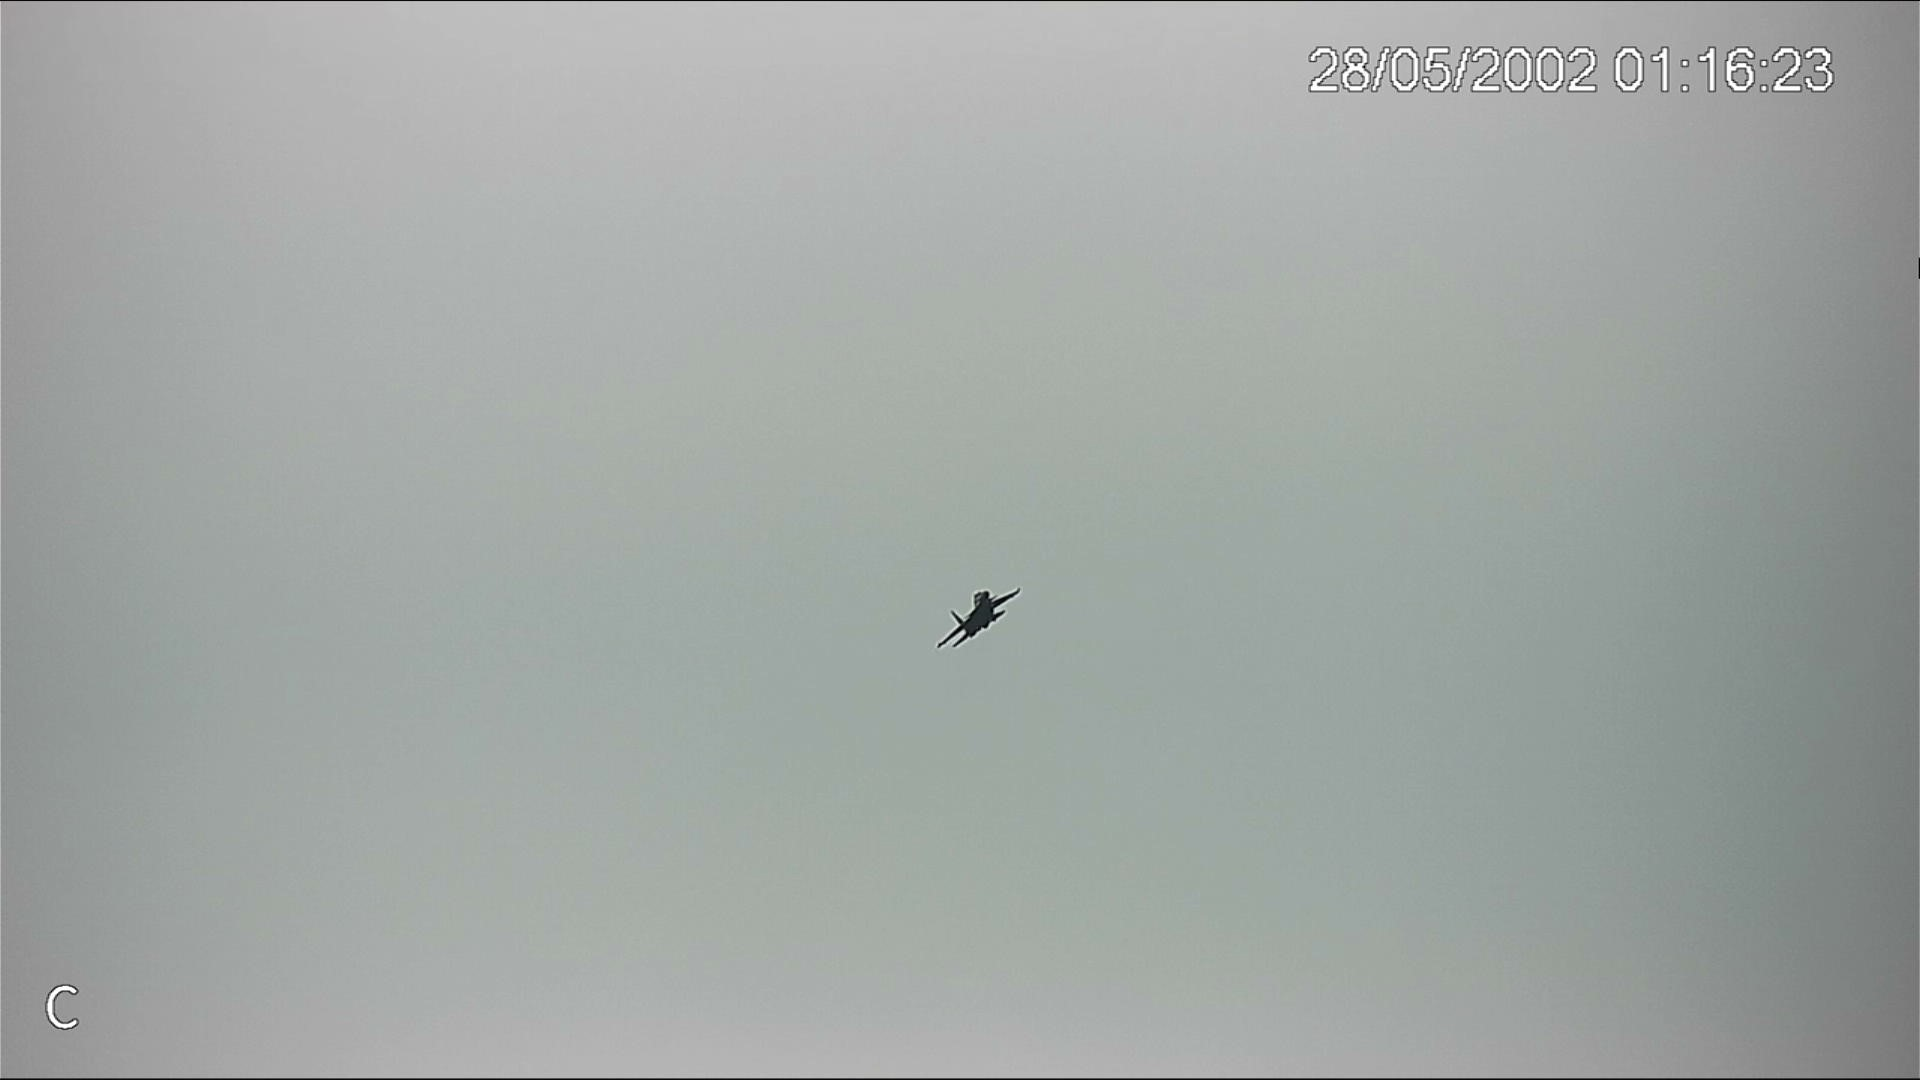SU_30: (936, 583, 1025, 647)
